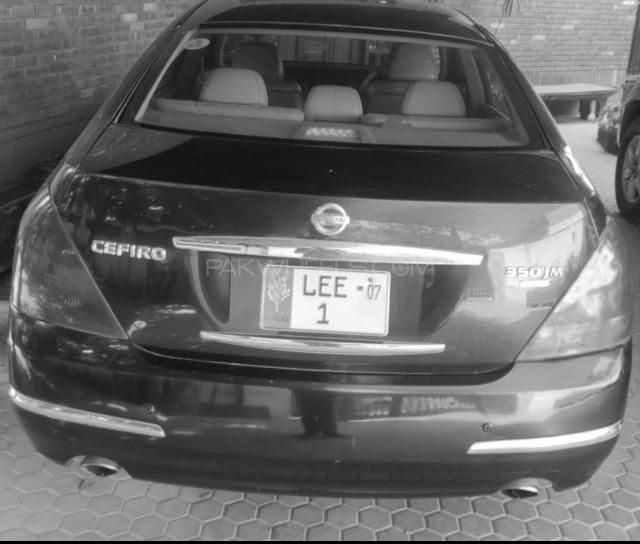Number: (298, 272, 354, 330)
